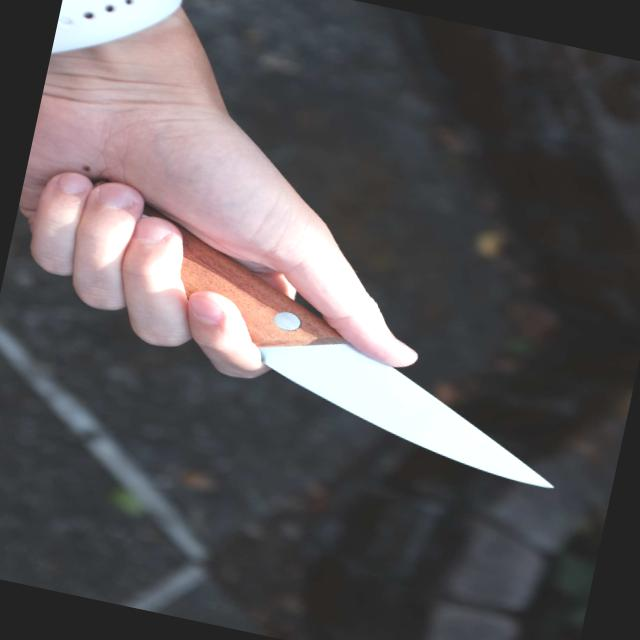knife: (90, 204, 608, 504)
